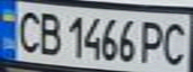1: (63, 11, 84, 58)
4: (81, 14, 103, 61)
6: (115, 16, 142, 63), (100, 15, 121, 62)
B: (33, 8, 63, 56)
C: (157, 18, 193, 66), (9, 7, 45, 54)
P: (136, 17, 172, 65)
